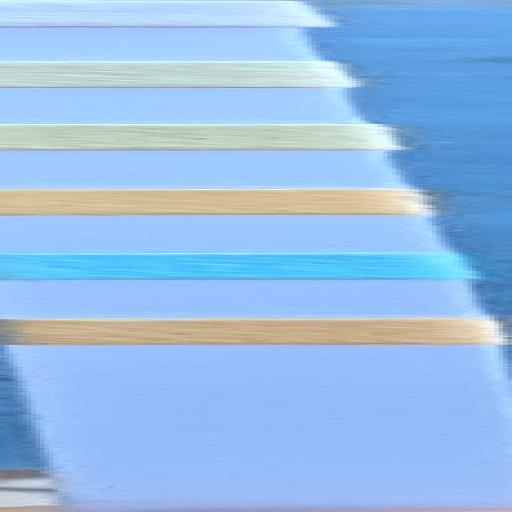pads: (0, 318, 510, 345), (0, 186, 443, 217), (0, 253, 490, 280), (0, 120, 408, 150), (0, 59, 363, 89), (0, 0, 364, 27)
